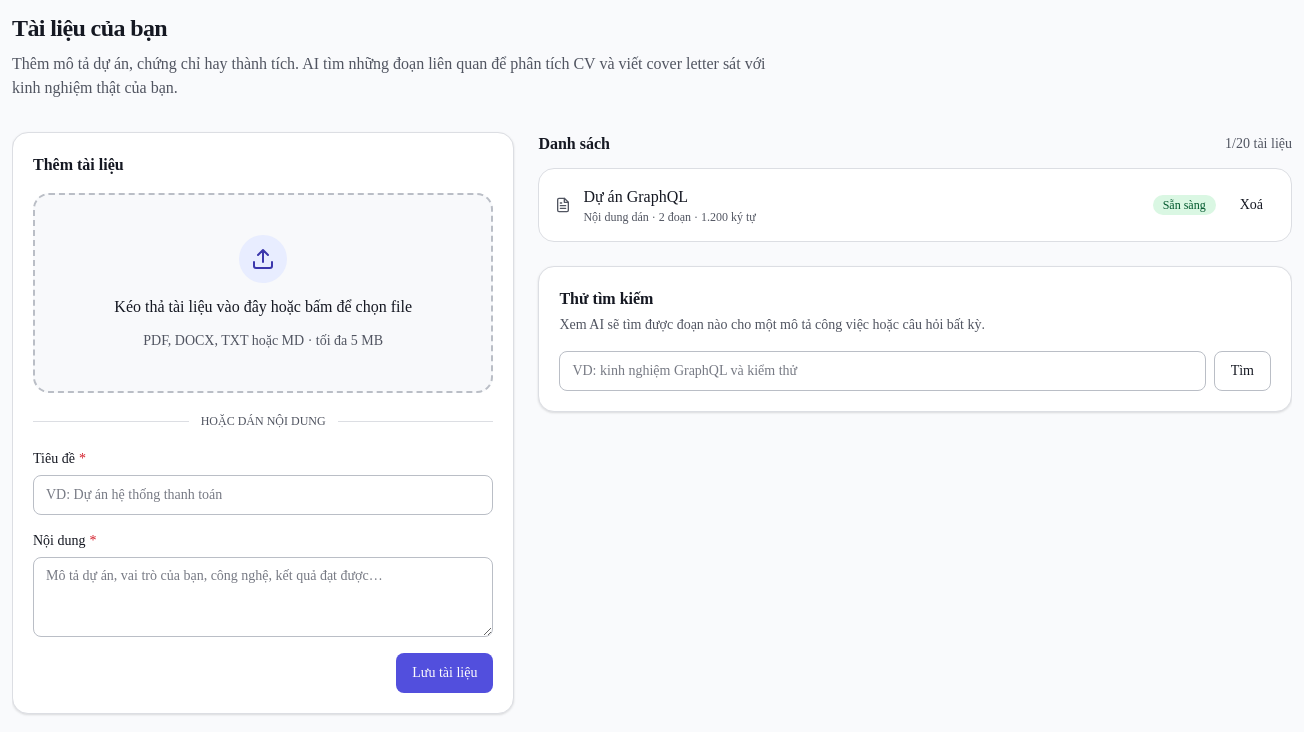
Scenario: DocumentsView › shows what a search finds, with similarity
This screenshot has width=1304, height=732.
Step 1. Type "GraphQL" into the search field named "Nội dung tìm kiếm" → (883, 371), box [559,351,1206,391]
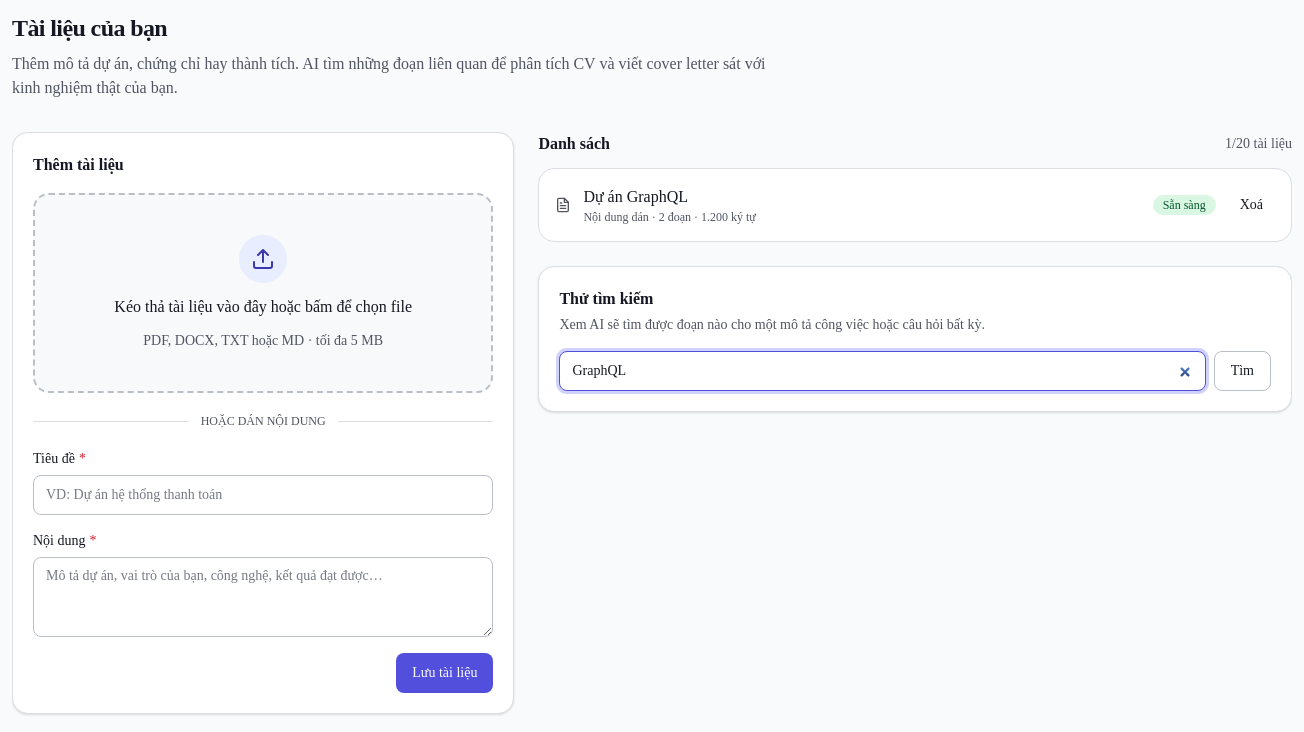
Step 2. Click the button "Tìm" → (1242, 371), box [1214,351,1271,391]
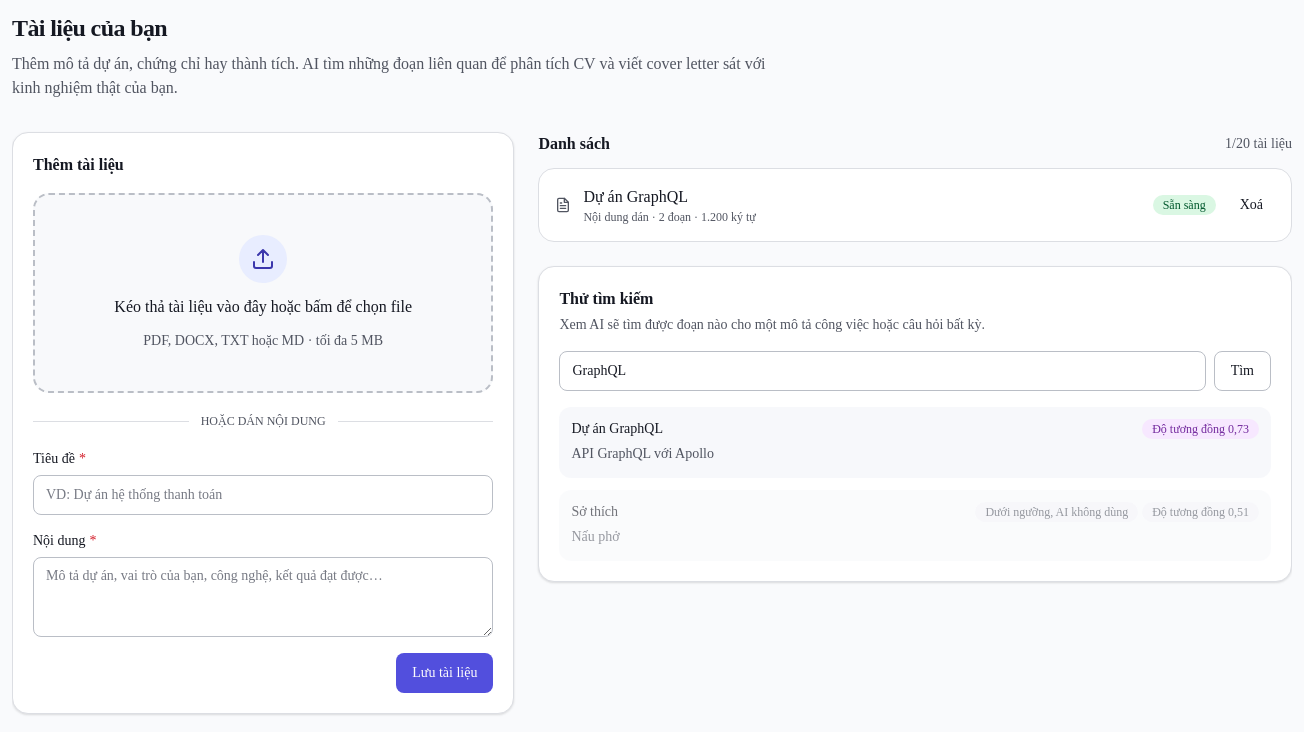
Result: the text "Độ tương đồng 0,73" is shown at [1142,419,1259,439]
Result: the text "Dưới ngưỡng, AI không dùng" is shown once at [975,502,1138,522]
